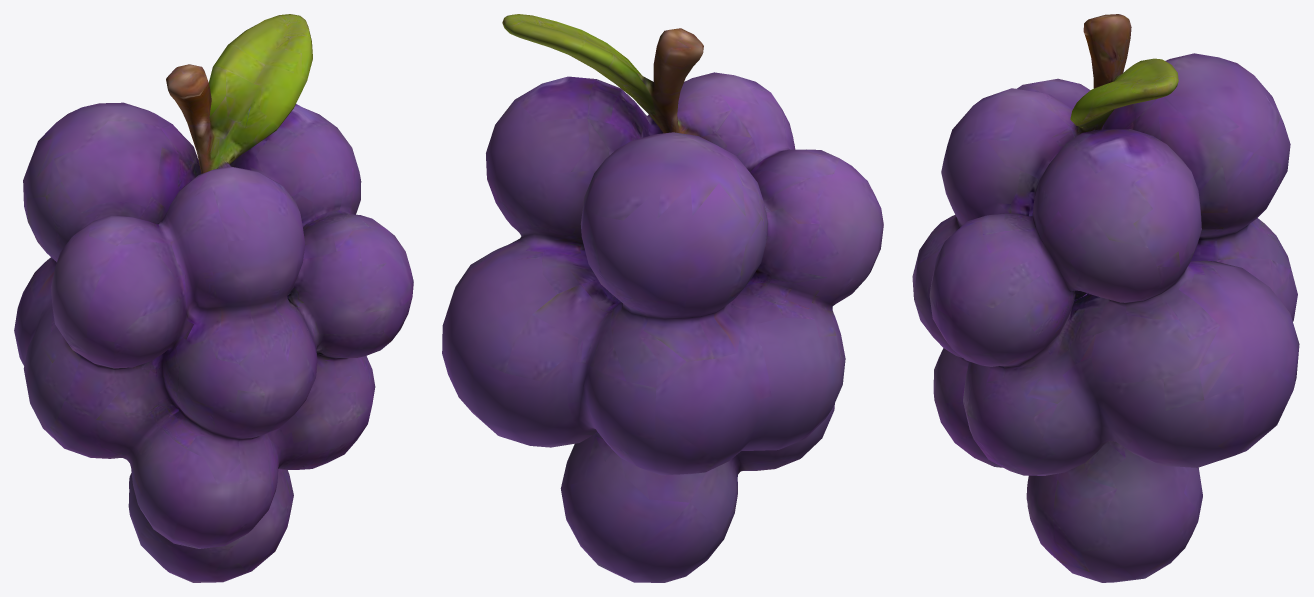
3 renders of one model, left to right at view 1: azimuth 30°, elevation 25°; view 2: azimuth 150°, elevation 25°; view 3: azimuth 270°, elevation 25°, orthographic. The views are drawn at different scales.
Bounding box in the file's own units: 1.27 × 1.9 × 1.21.
Materials: 1 (1 with a texture image).
